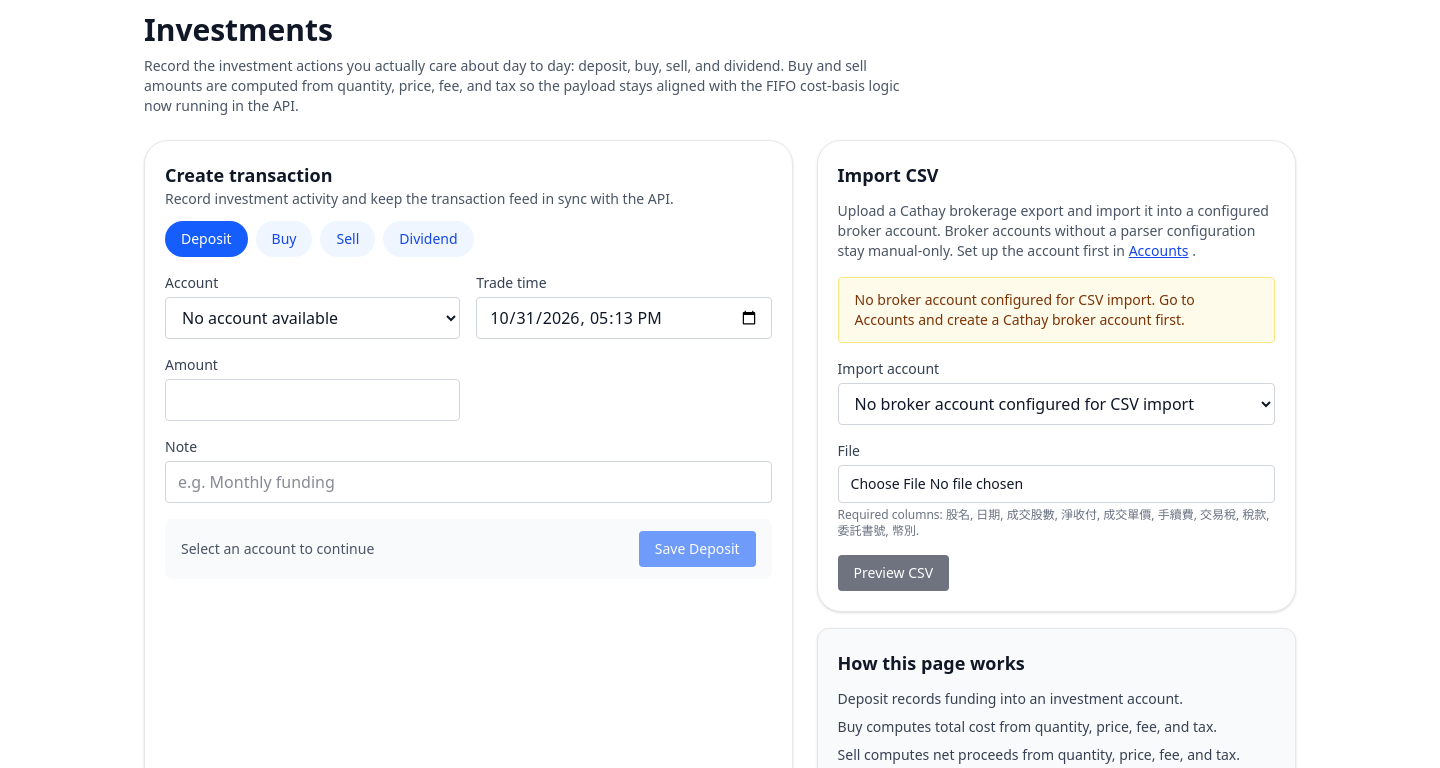
Transactions page trade flows › hides previous asset search results while the query is still debouncing
Click the button "Buy" at (284, 239), box x1=256 y1=221 x2=312 y2=257
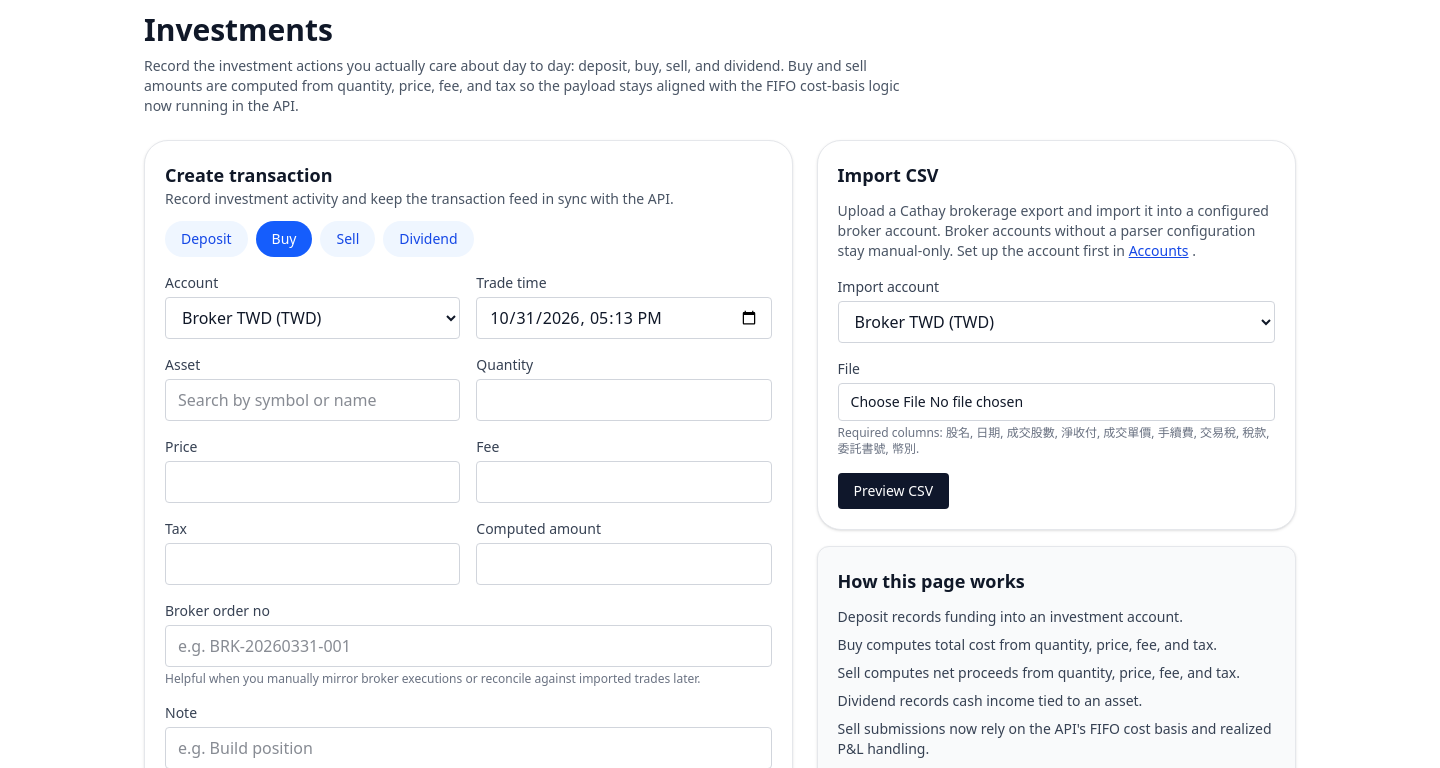
Type "2330" into the search field labelled "Asset" at (313, 400), box x1=165 y1=379 x2=460 y2=421
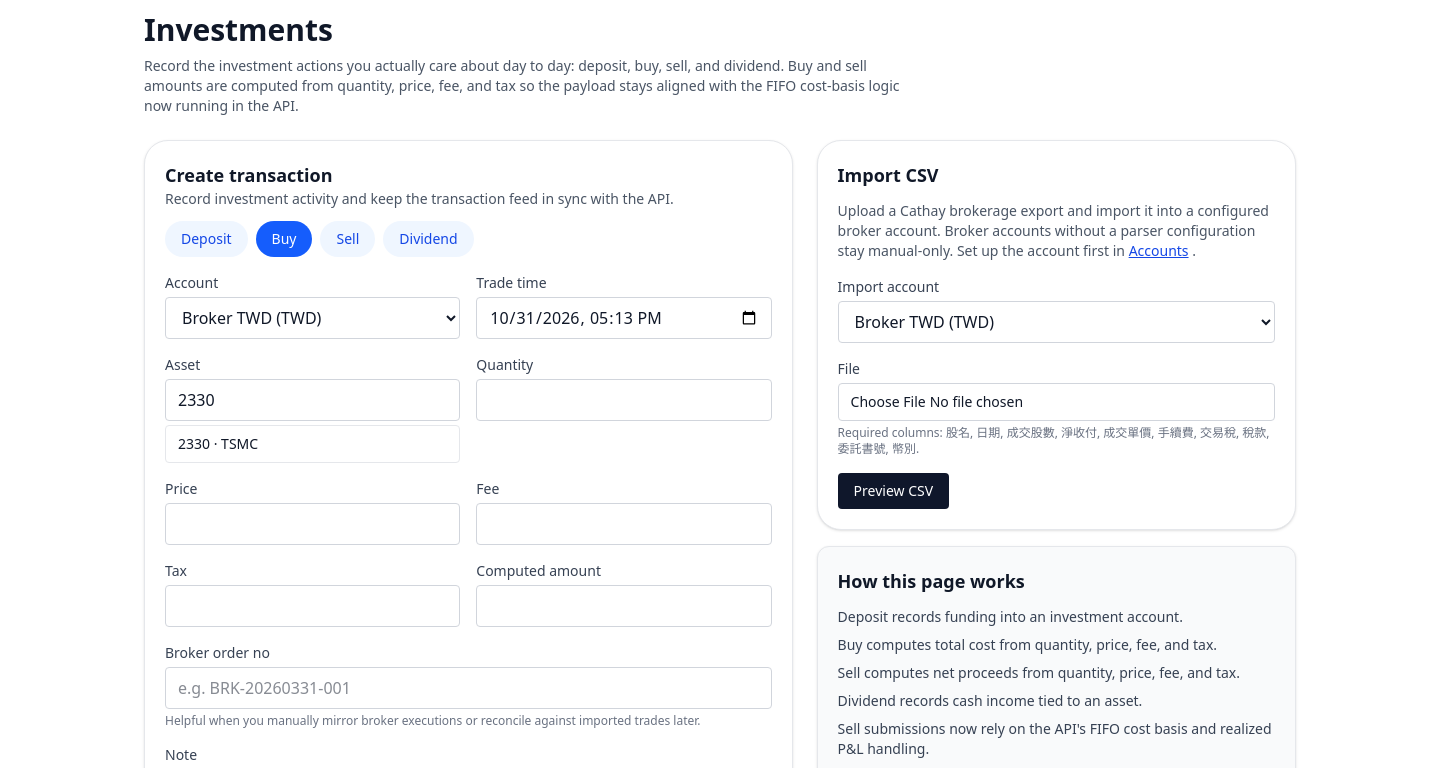
Expected: the button "2330 · TSMC" is shown, x1=166 y1=426 x2=459 y2=462
Replace the text in the search field labelled "Asset" with "nvda" at (313, 400), box x1=165 y1=379 x2=460 y2=421
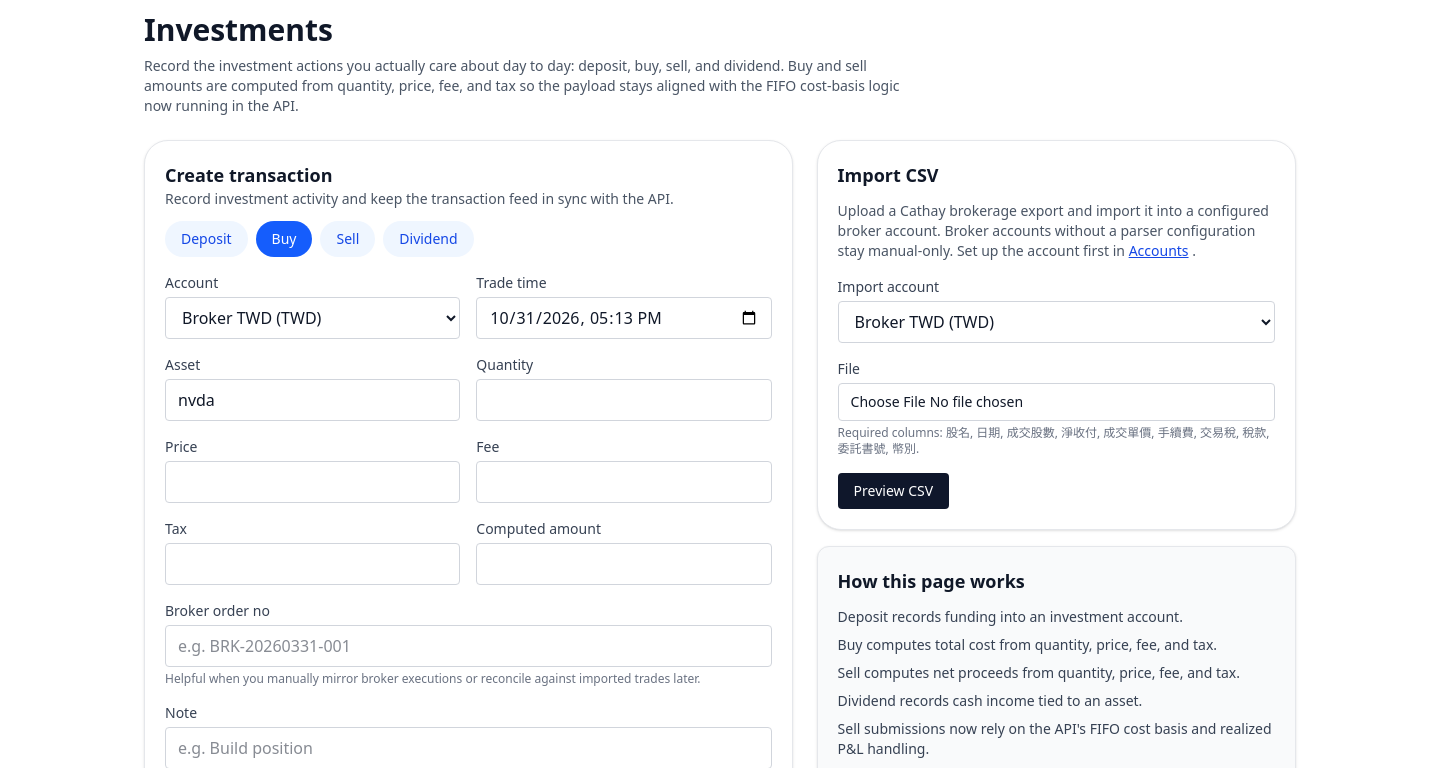
Expected: the button "2330 · TSMC" is gone
